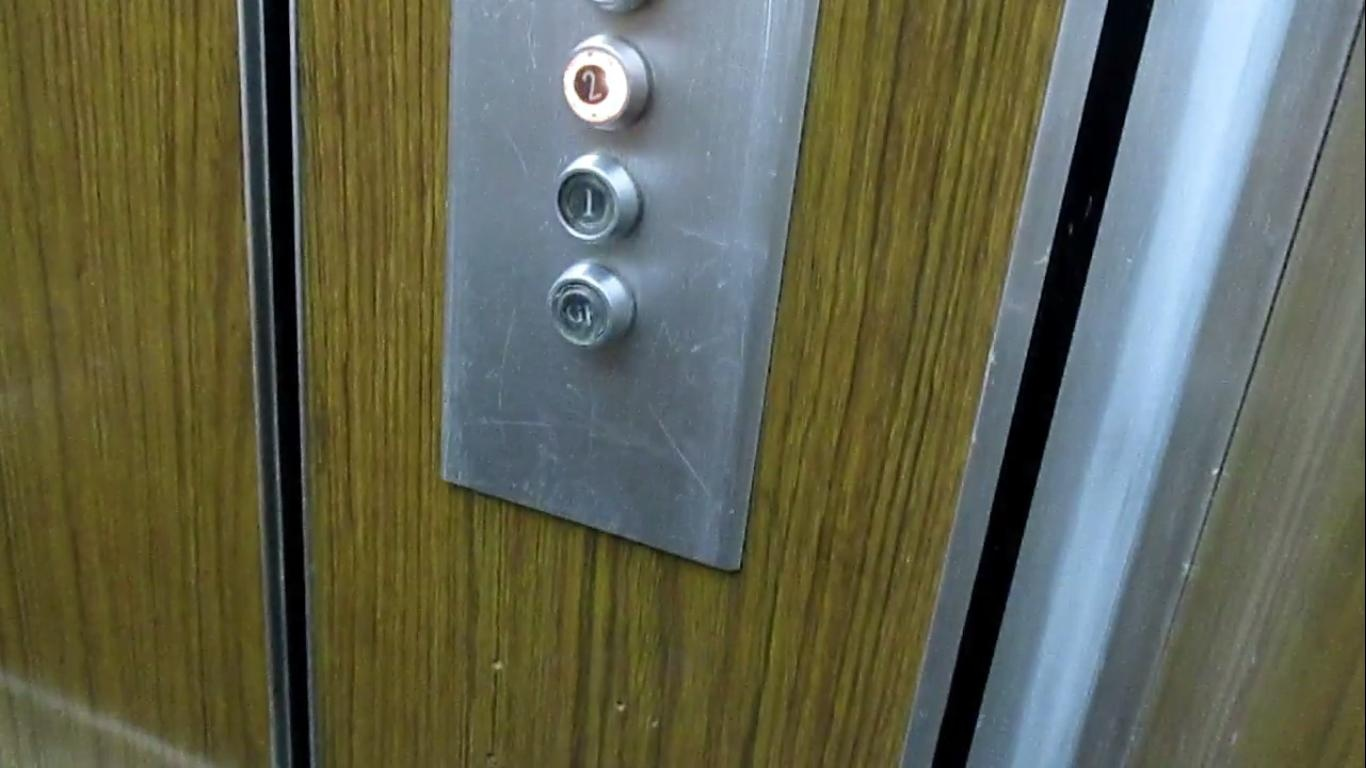1: (550, 149, 645, 249)
2: (557, 31, 657, 137)
GF: (544, 258, 640, 355)
